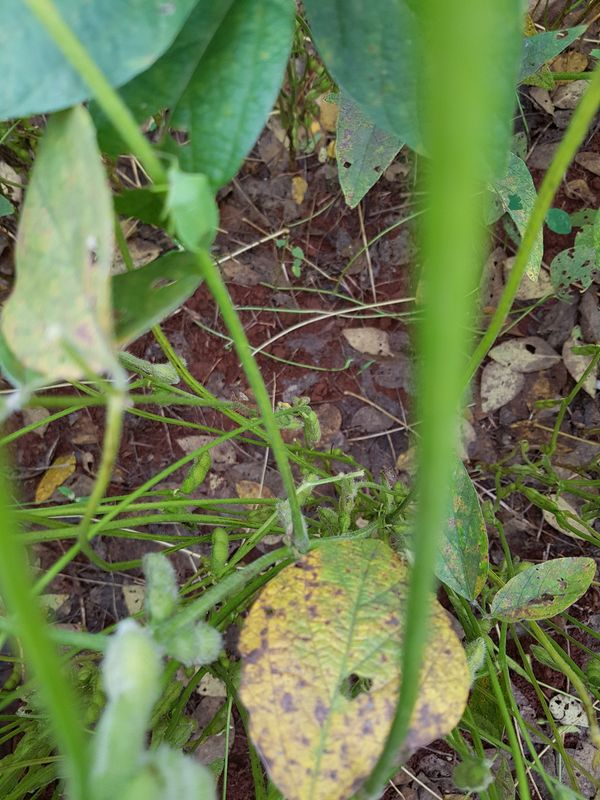Nezara_viridula_adulto: (131, 146, 235, 269)
